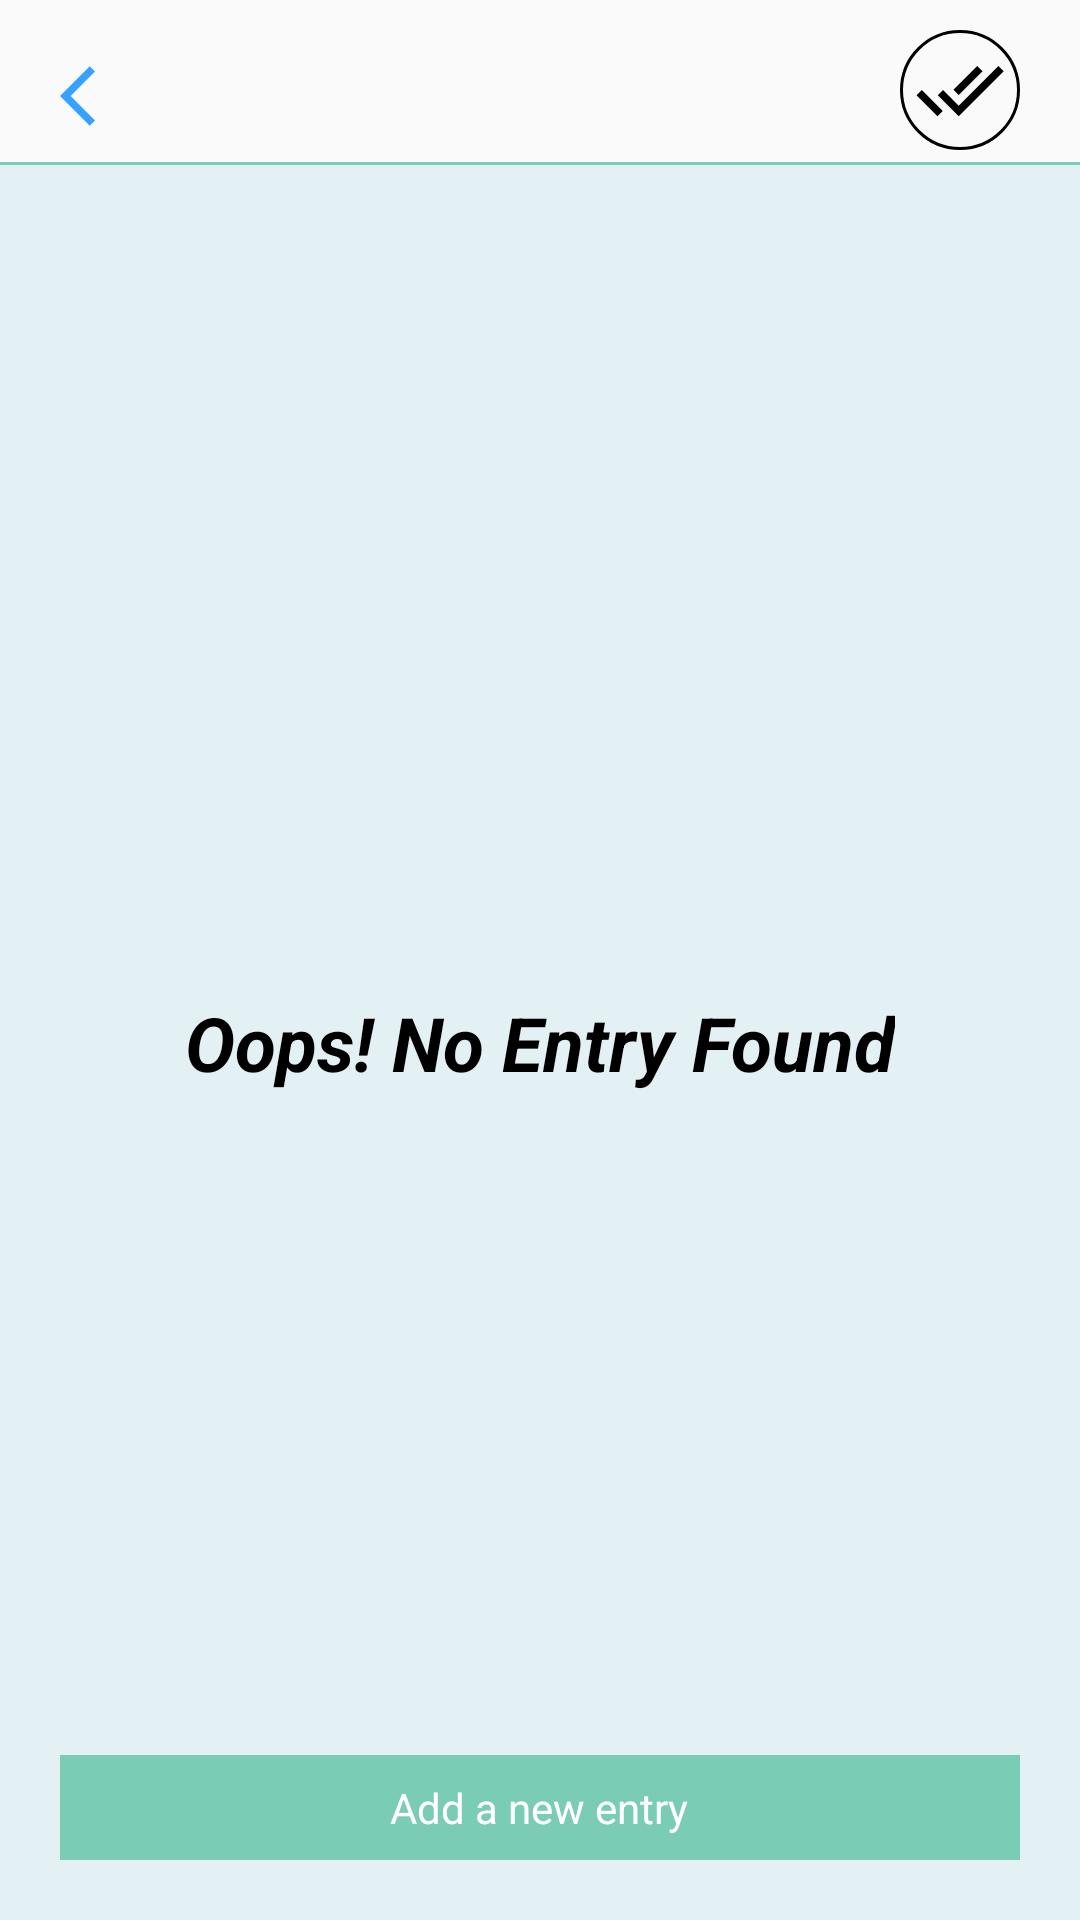

Screen size 1080 × 1920. Icon name, then its box in pixels as {"left": x1, "top": y1, "right": x2, "bottom": y2}:
backbtn: {"left": 60, "top": 66, "right": 95, "bottom": 126}
tick: {"left": 900, "top": 30, "right": 1020, "bottom": 150}
